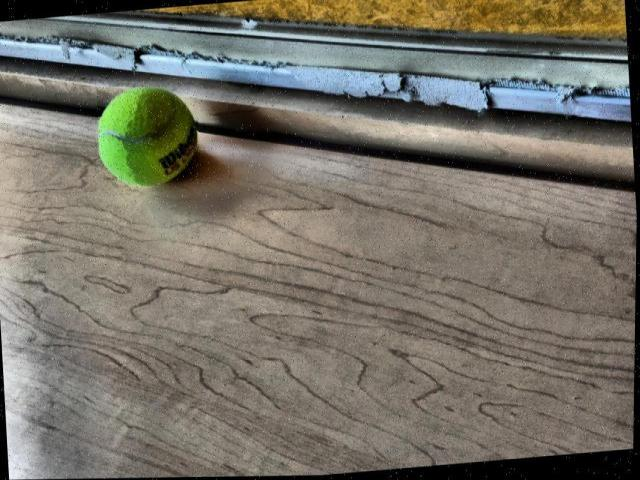tennis-ball: (95, 84, 199, 188)
